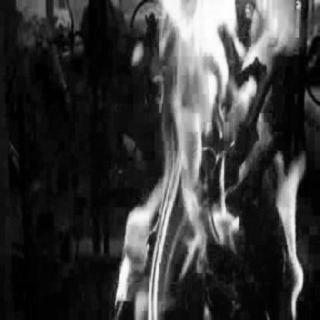Fire: (115, 0, 313, 318)
